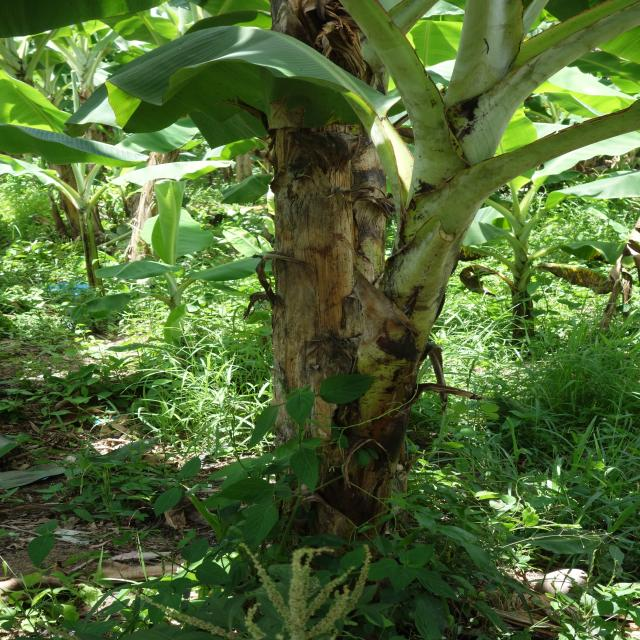Banana-plant: (306, 71, 594, 542), (258, 5, 392, 537)
